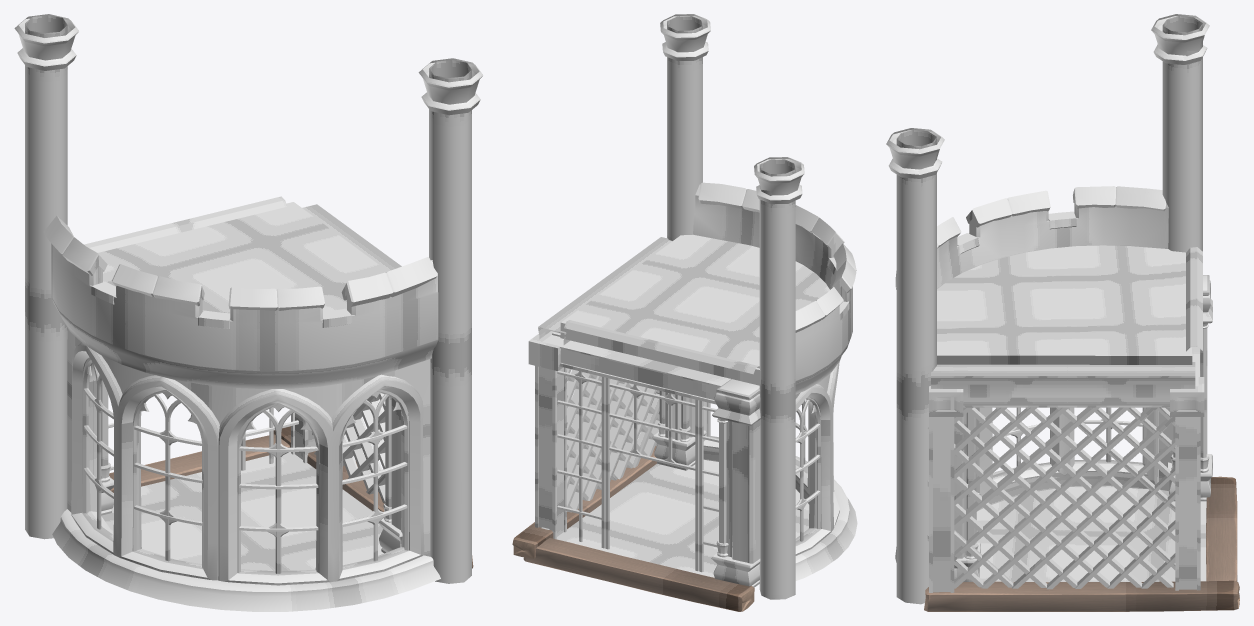
Rendered from SM_GeneralS_Winter_Garden_Balcony.fbx.
The picture shows the model from 3 angles, left to right: view 1: azimuth 30°, elevation 25°; view 2: azimuth 150°, elevation 25°; view 3: azimuth 270°, elevation 25°; orthographic projection. The views are drawn at different scales.
Parts seen in each view (by area): view 1: SM_GeneralS_Winter_Garden_Balcony_LOD0; view 2: SM_GeneralS_Winter_Garden_Balcony_LOD0; view 3: SM_GeneralS_Winter_Garden_Balcony_LOD0.
Part boxes in pixels (left/top/right/bottom): SM_GeneralS_Winter_Garden_Balcony_LOD0: left=14, top=14, right=483, bottom=611; SM_GeneralS_Winter_Garden_Balcony_LOD0: left=512, top=14, right=857, bottom=611; SM_GeneralS_Winter_Garden_Balcony_LOD0: left=886, top=14, right=1239, bottom=611.
Size of the model in its own units: 605 by 651 by 946.
